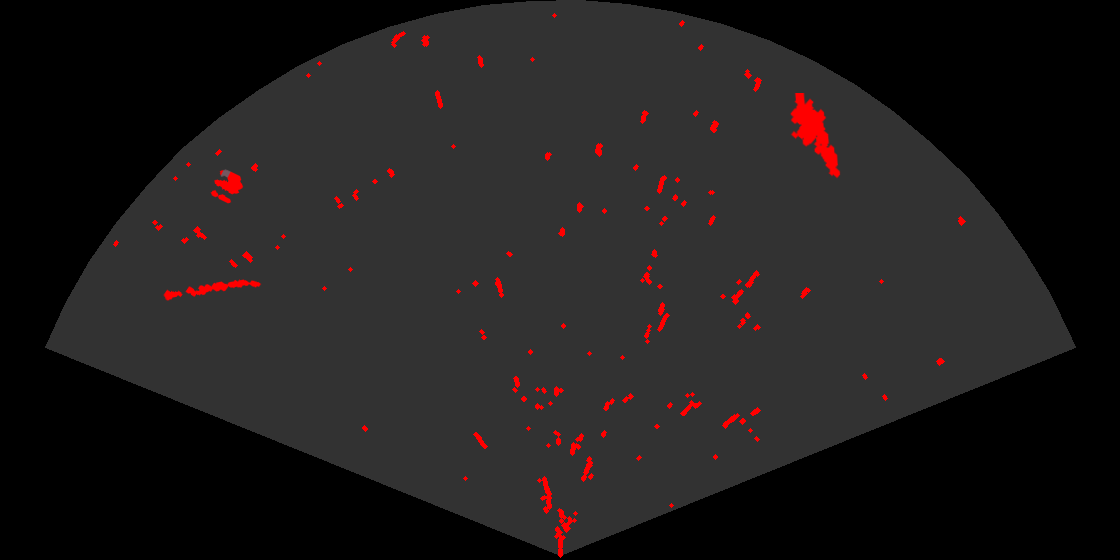ball: (209, 168, 245, 205)
chain: (161, 278, 262, 302)
frogman: (789, 93, 842, 180)
